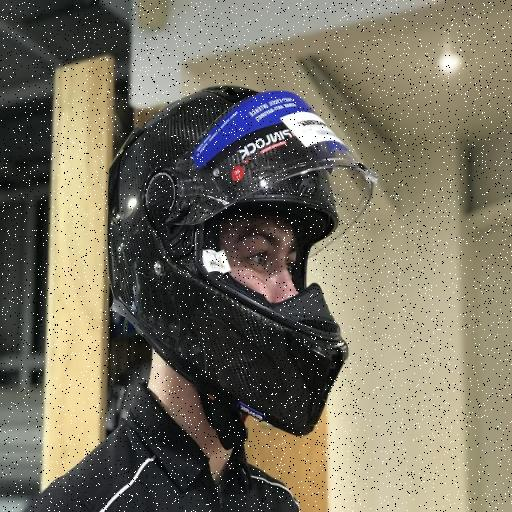Helmet: (108, 87, 375, 434)
